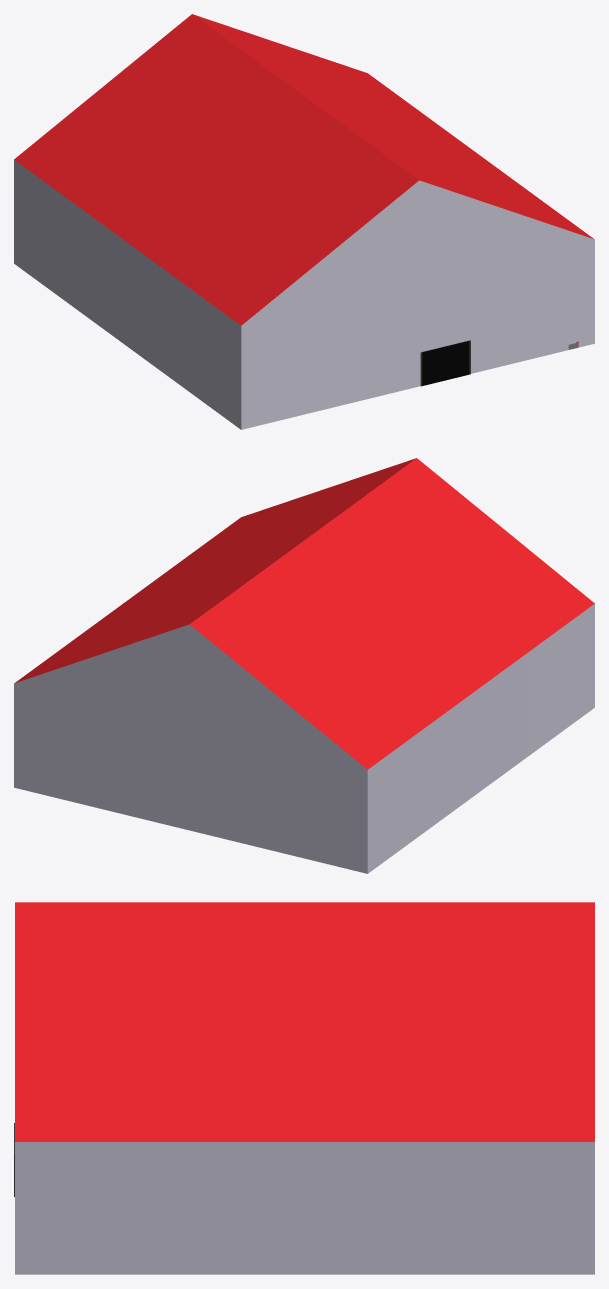
Rendered from Supermarket.glb.
The picture shows the model from 3 angles, top to bottom: view 1: azimuth 30°, elevation 25°; view 2: azimuth 150°, elevation 25°; view 3: azimuth 270°, elevation 25°; orthographic projection. The views are drawn at different scales.
Visible parts, largest first — view 1: I_Supermarket.001, I_Door2.001; view 2: I_Supermarket.001; view 3: I_Supermarket.001.
Boxes of the visible parts, left/top/right/bottom form: I_Supermarket.001: left=14, top=14, right=594, bottom=429; I_Door2.001: left=420, top=340, right=470, bottom=386; I_Supermarket.001: left=14, top=458, right=594, bottom=873; I_Supermarket.001: left=15, top=902, right=594, bottom=1274.
Size of the model in its own units: 71 by 39.62 by 79.15.
Materials: 4 (4 with a texture image).
